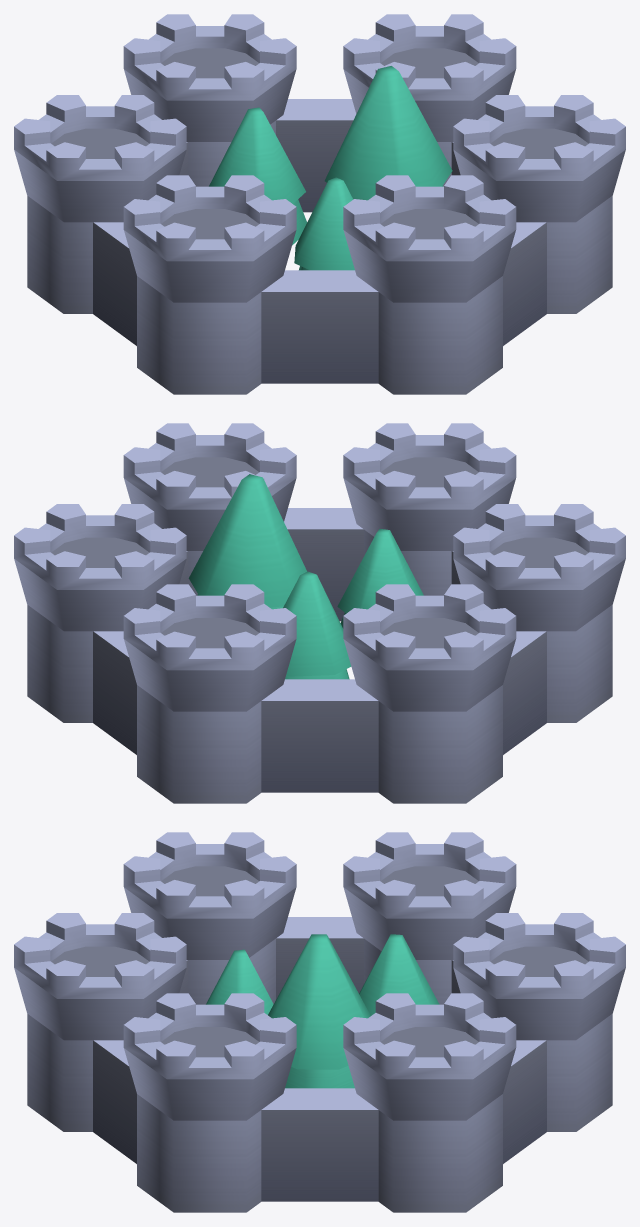
File: walls.fbx
3 renders of one model, top to bottom at view 1: azimuth 30°, elevation 25°; view 2: azimuth 150°, elevation 25°; view 3: azimuth 270°, elevation 25°, orthographic.
Visible parts, largest first — view 1: building_walls; view 2: building_walls; view 3: building_walls.
Boxes of the visible parts, x1,y1,x2,y2 form: building_walls: (14,14,625,394); building_walls: (14,423,625,803); building_walls: (14,832,625,1212).
Size of the model in its own units: 104 by 43.7 by 121.
